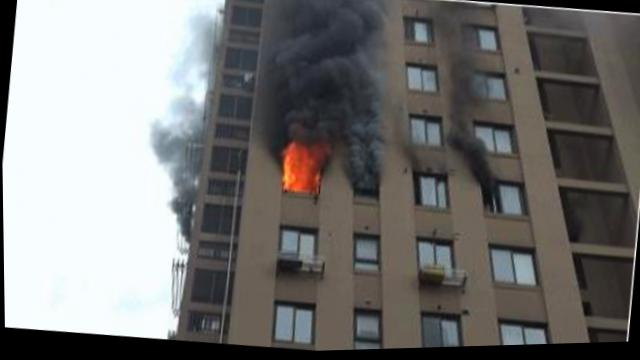fire: (271, 129, 330, 203)
